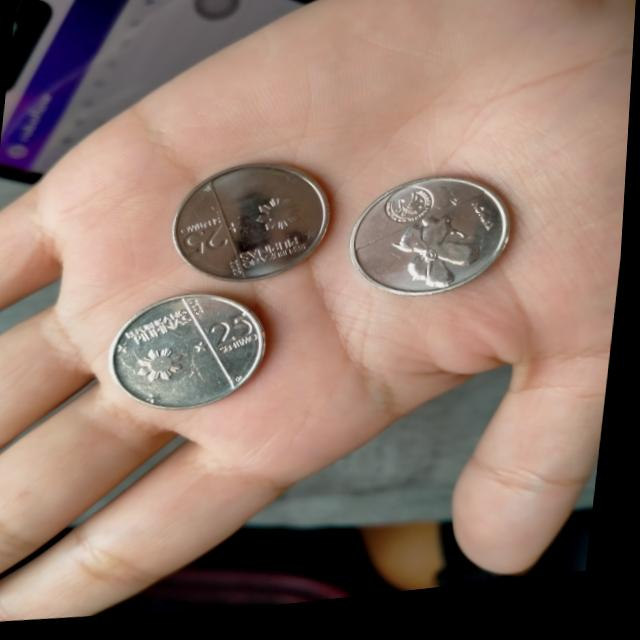25Cent_New_Back: (386, 225, 494, 312)
25Cent_New_Front: (180, 207, 246, 282), (199, 307, 269, 366)
